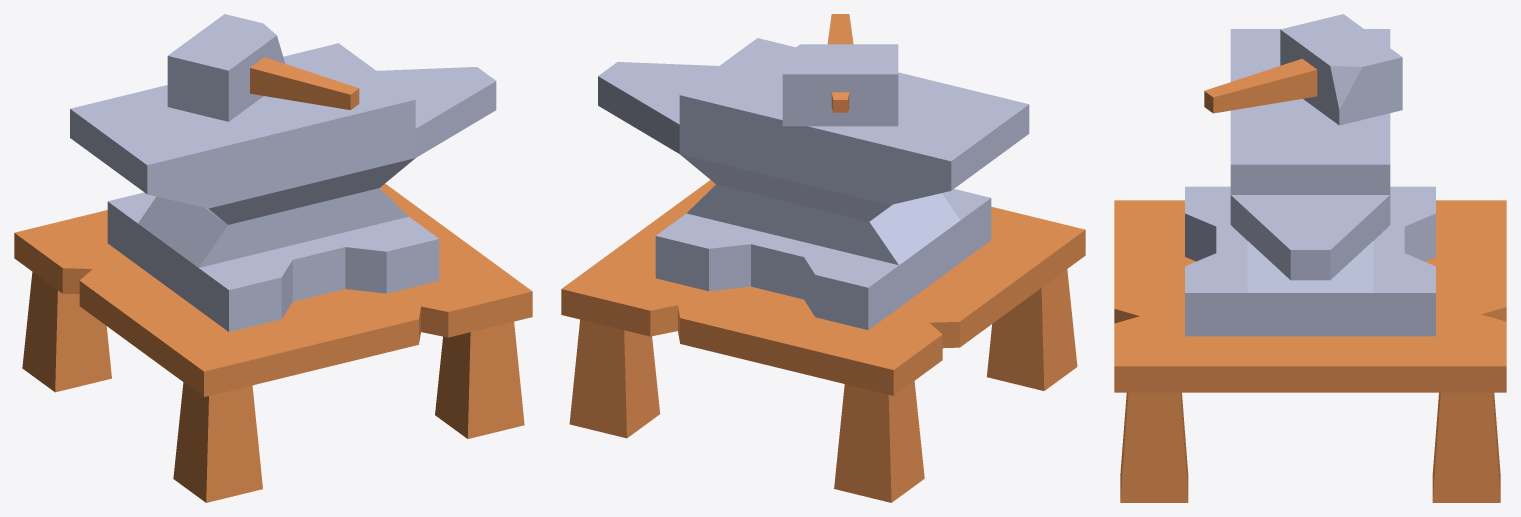
The model's file is workbenchAnvil.fbx.
3 views of the same model, side by side, from view 1: azimuth 30°, elevation 25°; view 2: azimuth 150°, elevation 25°; view 3: azimuth 270°, elevation 25° (orthographic). The views are drawn at different scales.
Visible parts, largest first — view 1: workbenchAnvil, hammer; view 2: workbenchAnvil, hammer; view 3: workbenchAnvil, hammer.
Boxes of the visible parts, <box> form: workbenchAnvil: <box>14,43,532,502</box>; hammer: <box>167,14,359,121</box>; workbenchAnvil: <box>561,38,1085,502</box>; hammer: <box>782,14,898,126</box>; workbenchAnvil: <box>1114,29,1506,502</box>; hammer: <box>1204,14,1402,125</box>.
Bounding box in the file's own units: 3.09 × 2.75 × 2.69.
